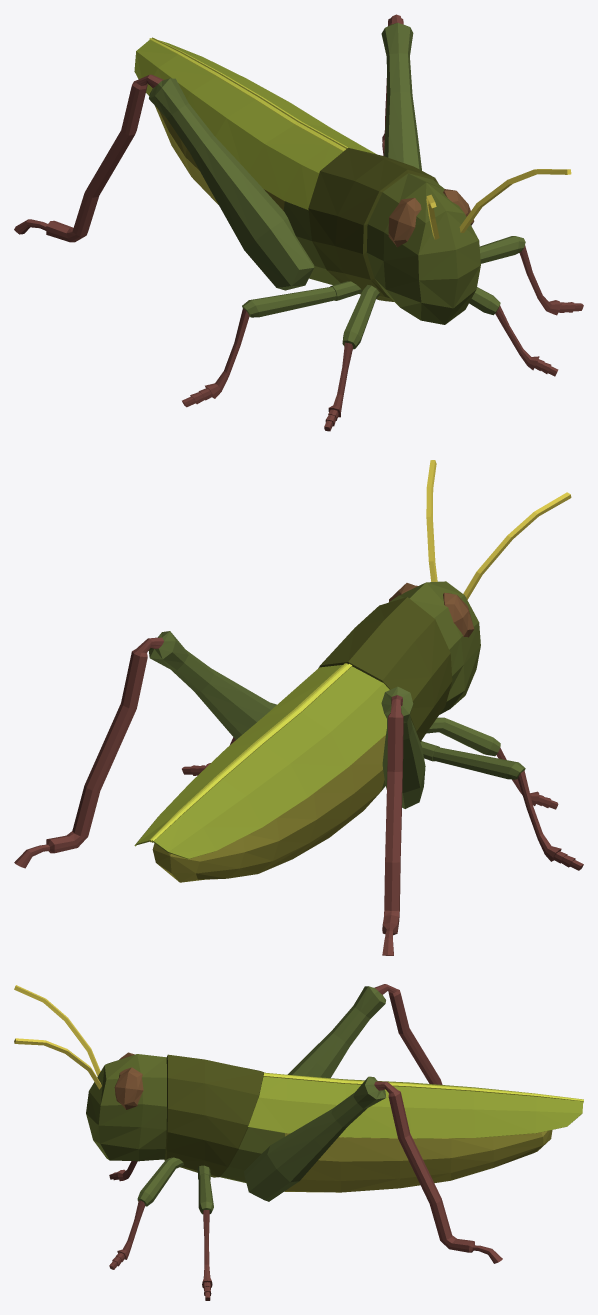
The model's file is grasshopper.glb.
3 renders of one model, top to bottom at view 1: azimuth 30°, elevation 25°; view 2: azimuth 150°, elevation 25°; view 3: azimuth 270°, elevation 25°, orthographic. The views are drawn at different scales.
Parts seen in each view (by area): view 1: Node; view 2: Node; view 3: Node.
Boxes of the visible parts, <box> form: Node: <box>14,14,583,431</box>; Node: <box>14,460,583,955</box>; Node: <box>14,984,583,1300</box>.
Bounding box in the file's own units: 3.55 × 2.21 × 5.39.
